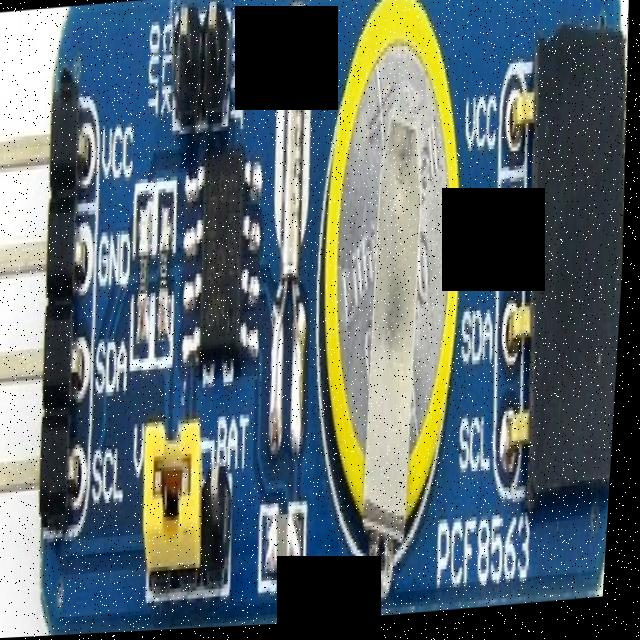IC: (186, 150, 264, 369)
battery: (303, 0, 489, 552)
capacitor 1V5: (271, 510, 308, 583)
clock Q1: (256, 8, 326, 445)
connector -5v-: (487, 30, 637, 523), (0, 86, 114, 535), (135, 409, 245, 595), (170, 1, 237, 133)
resistor IR1: (132, 219, 157, 356), (155, 223, 178, 337)
